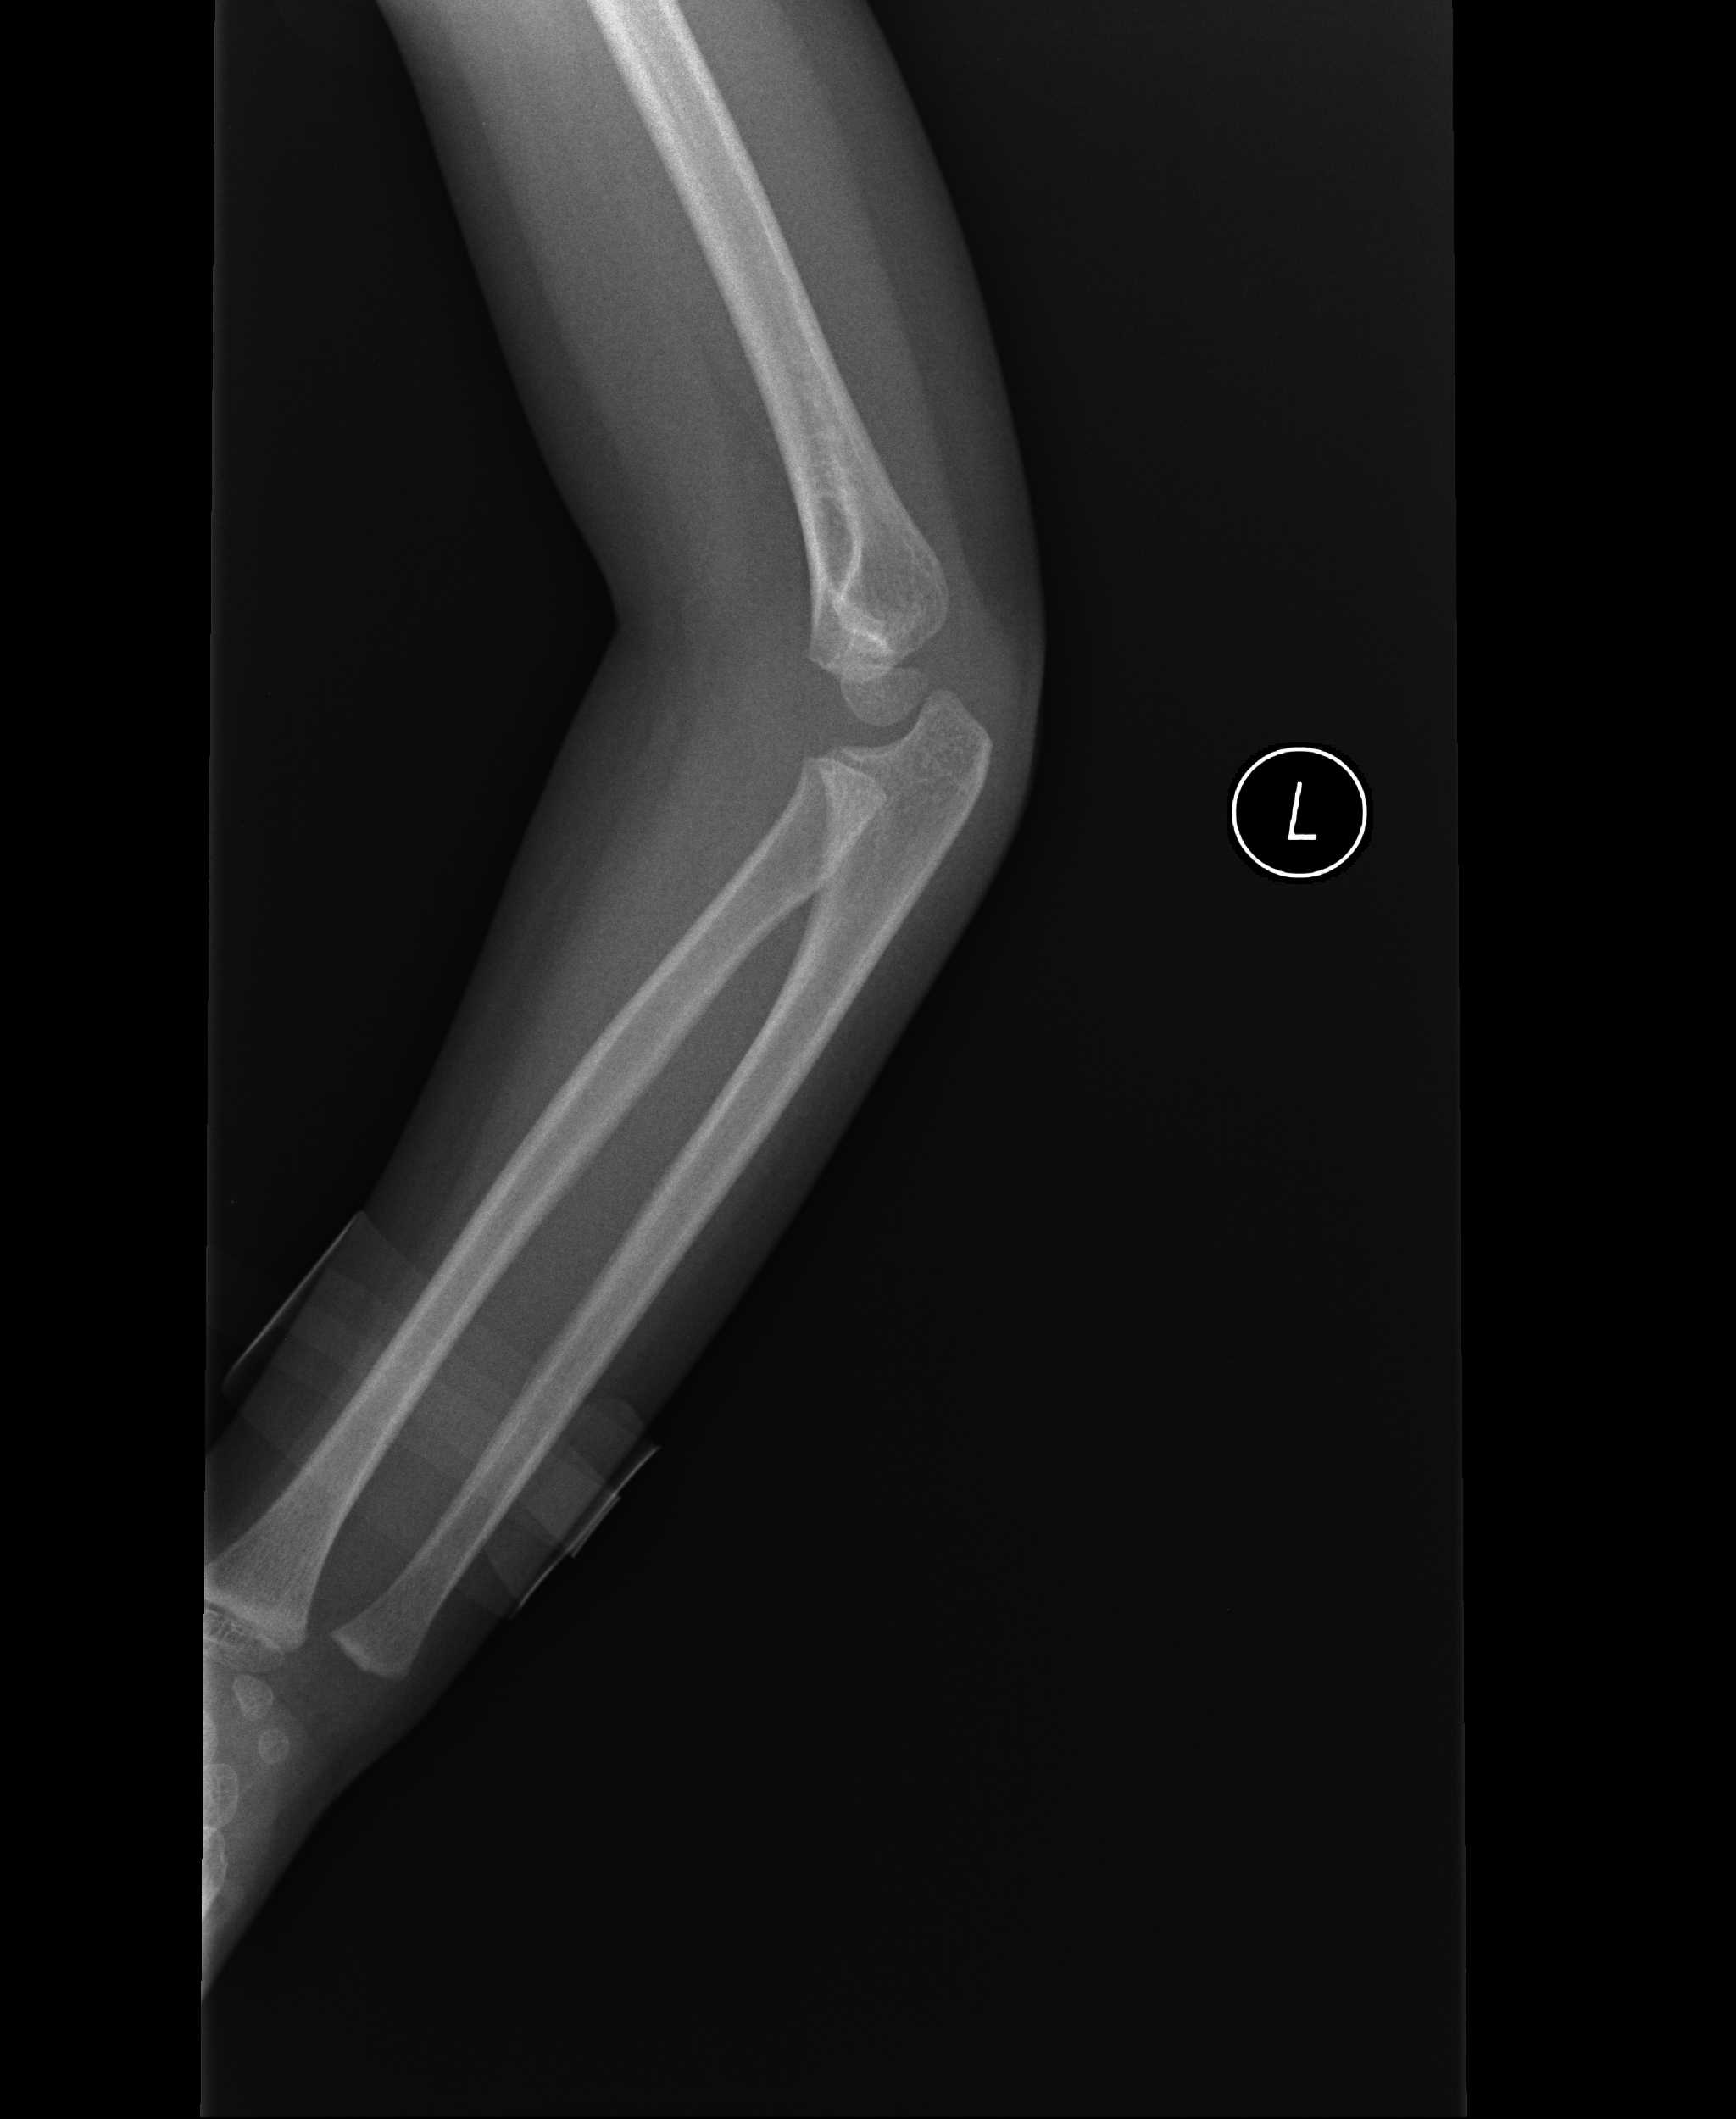Normal: (655, 458, 1074, 949)
